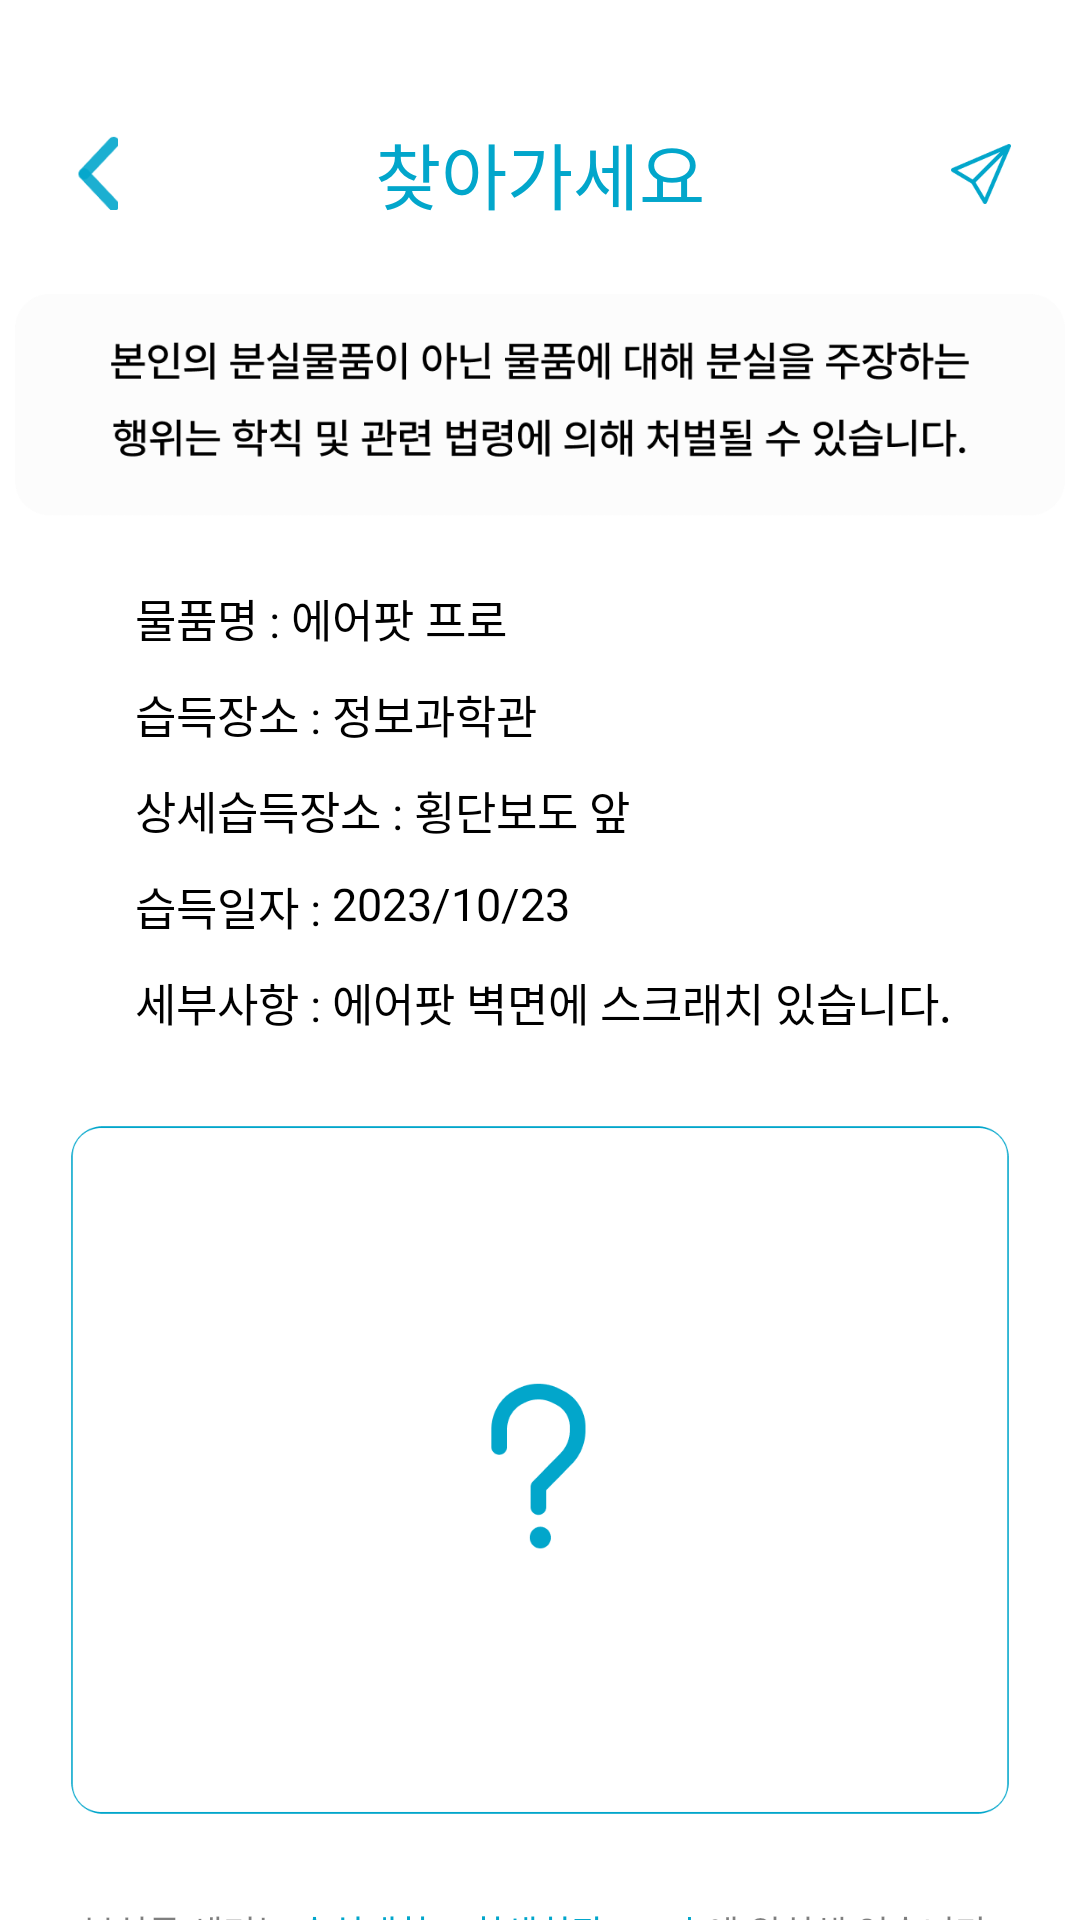

Named icons in this screenshot (1080px x 1920px) and their bounding boxes, (x1, y1, x2, y2):
back: (78, 136, 118, 210)
